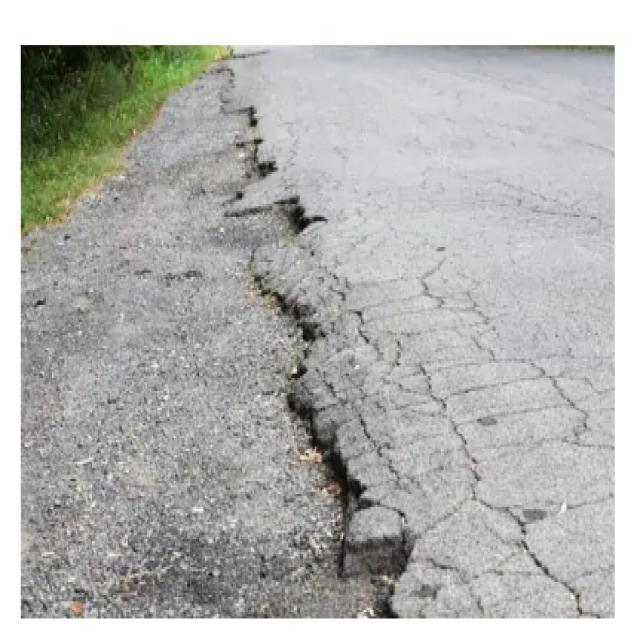Pothole: (92, 85, 492, 620)
